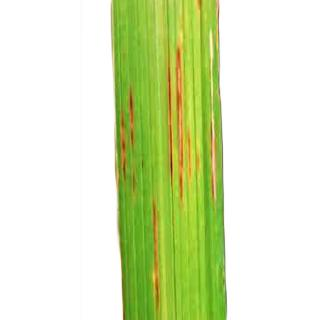Bercak-Cokelat-Sempit: (158, 35, 200, 200), (111, 81, 144, 194), (144, 199, 162, 314), (213, 0, 228, 89), (209, 112, 218, 199), (195, 0, 206, 14)
